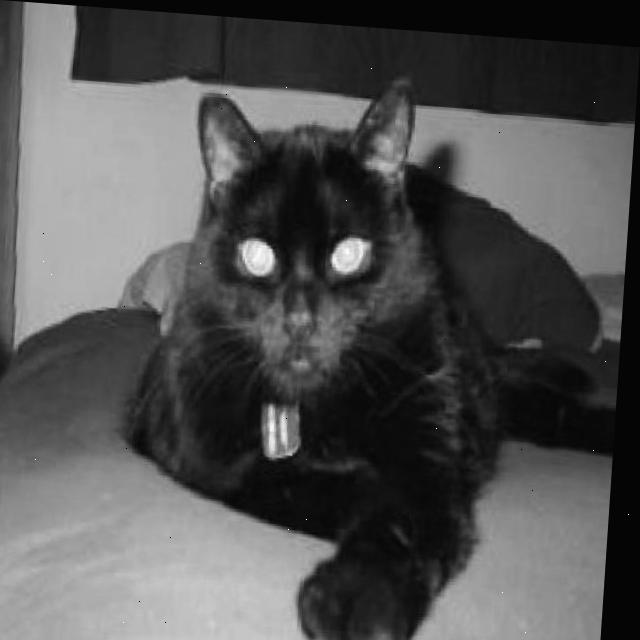Cat: (111, 60, 635, 640)
